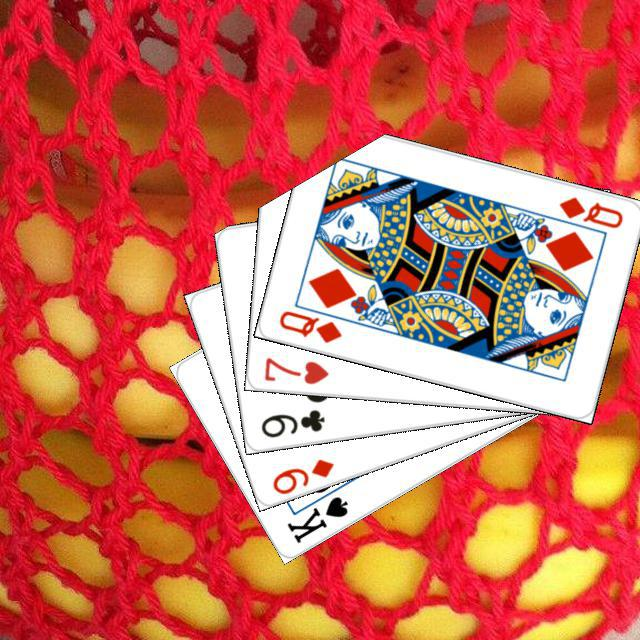7h: (259, 352, 330, 386)
9c: (256, 404, 326, 440)
9d: (267, 454, 336, 496)
Ks: (281, 491, 350, 545)
Qd: (554, 191, 625, 230), (274, 305, 343, 345)
